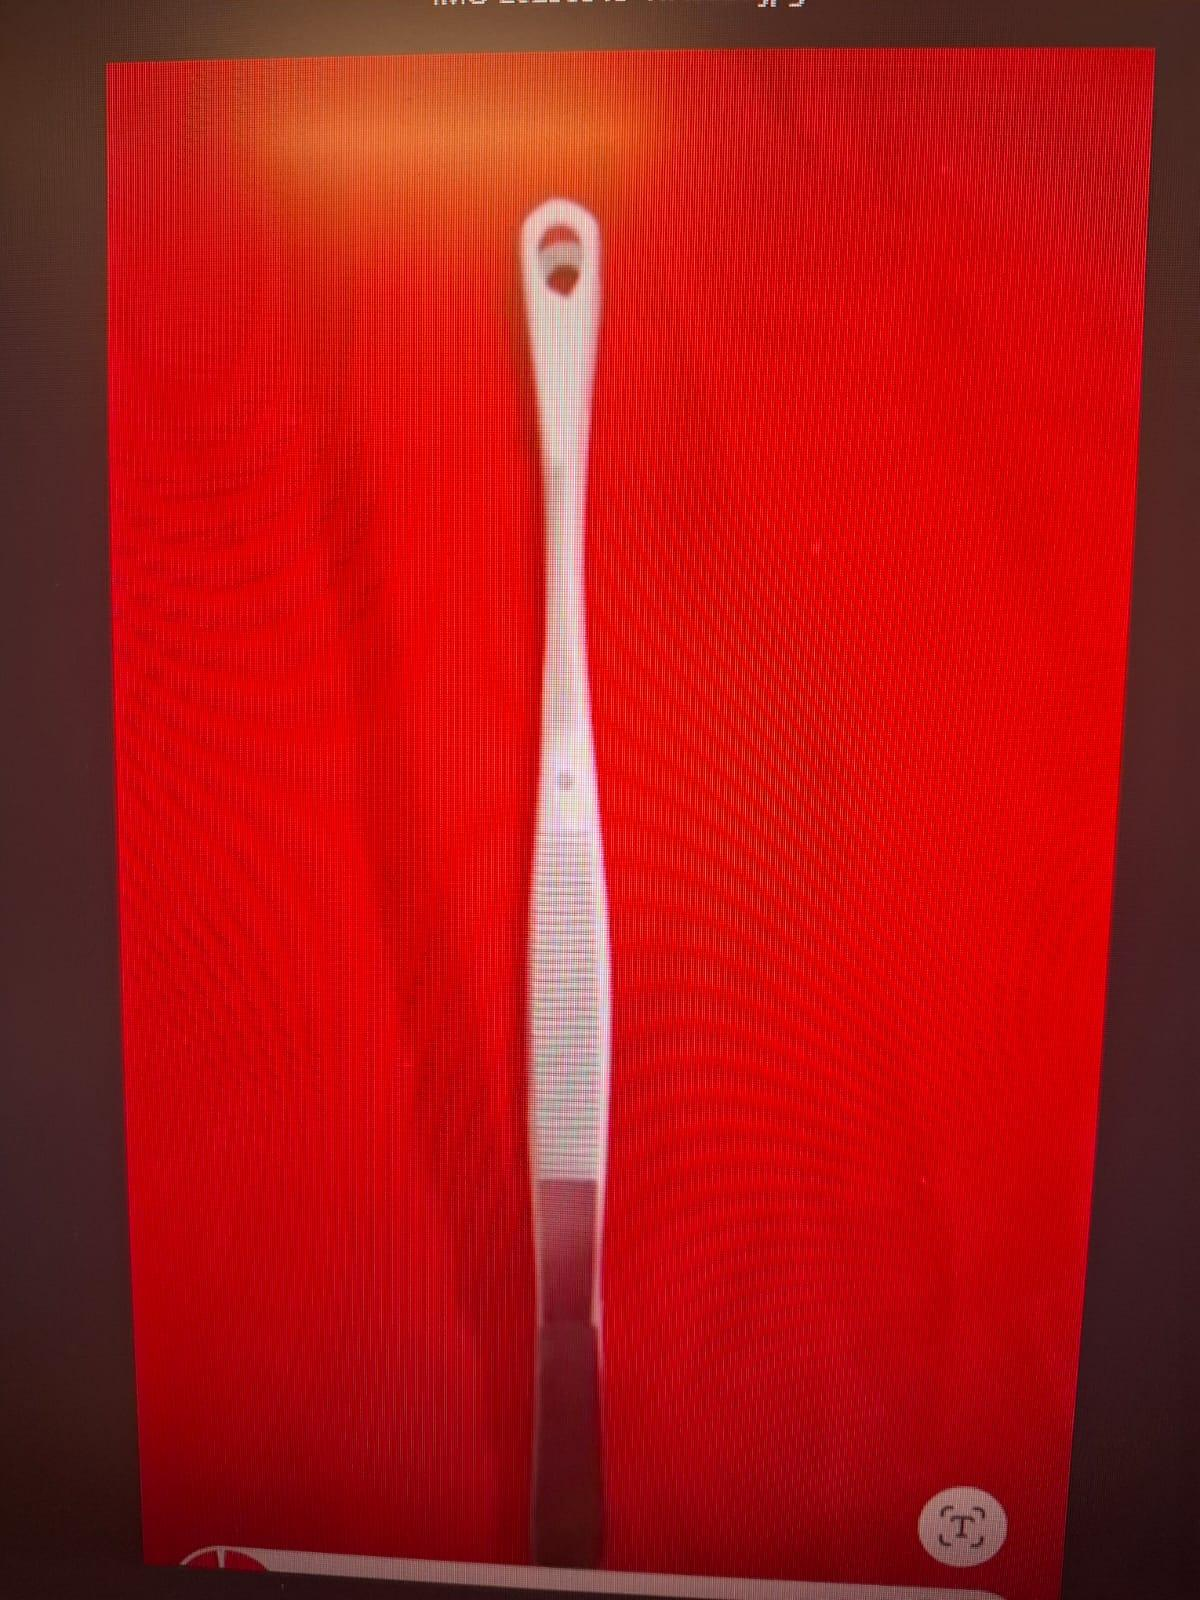Eye Intestinal Forceps: (485, 185, 676, 1565)
